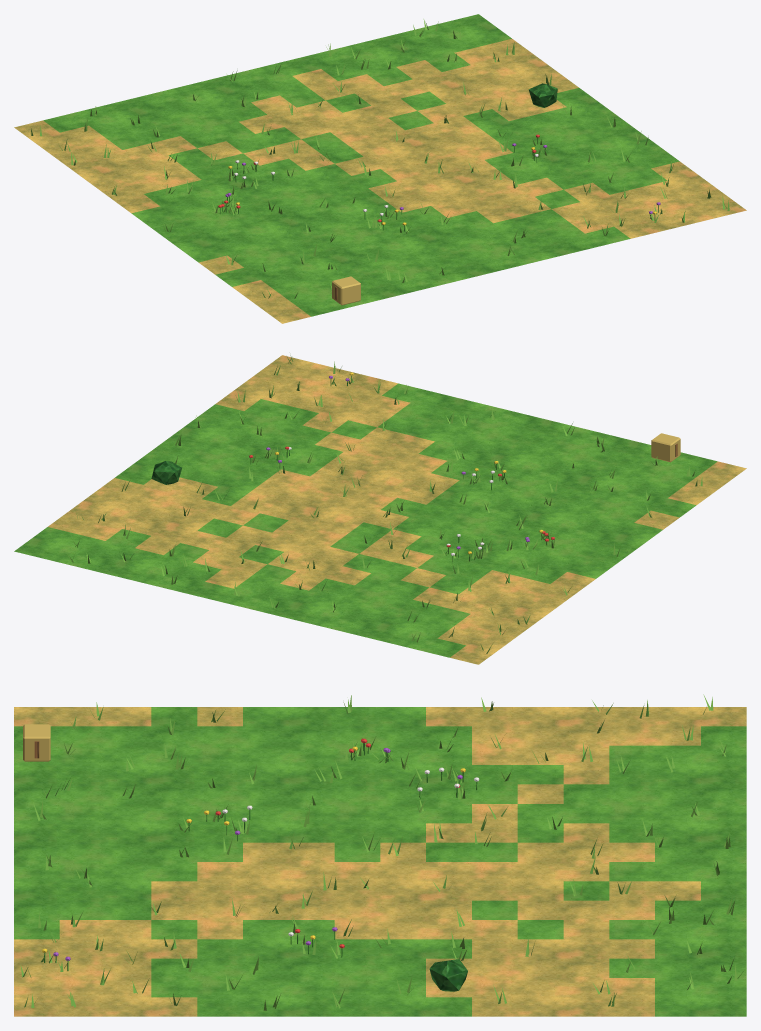
The model's file is chunk_1_11.glb.
3 renders of one model, top to bottom at view 1: azimuth 30°, elevation 25°; view 2: azimuth 150°, elevation 25°; view 3: azimuth 270°, elevation 25°, orthographic. The views are drawn at different scales.
Visible parts, largest first — view 1: chunk_1_11; view 2: chunk_1_11; view 3: chunk_1_11.
Boxes of the visible parts, x1=… form: chunk_1_11: x1=14, y1=14, x2=746, y2=323; chunk_1_11: x1=14, y1=355, x2=746, y2=664; chunk_1_11: x1=14, y1=694, x2=746, y2=1016.
Size of the model in its own units: 16.01 by 0.8153 by 16.01.
11 materials, 5 textured.
